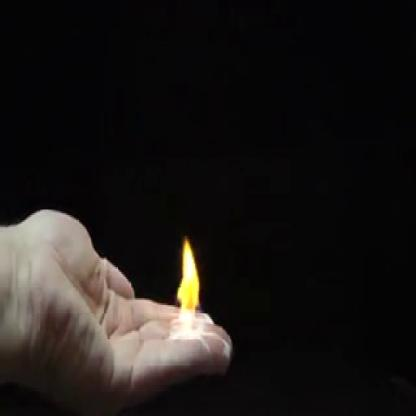fire: (169, 228, 205, 340)
